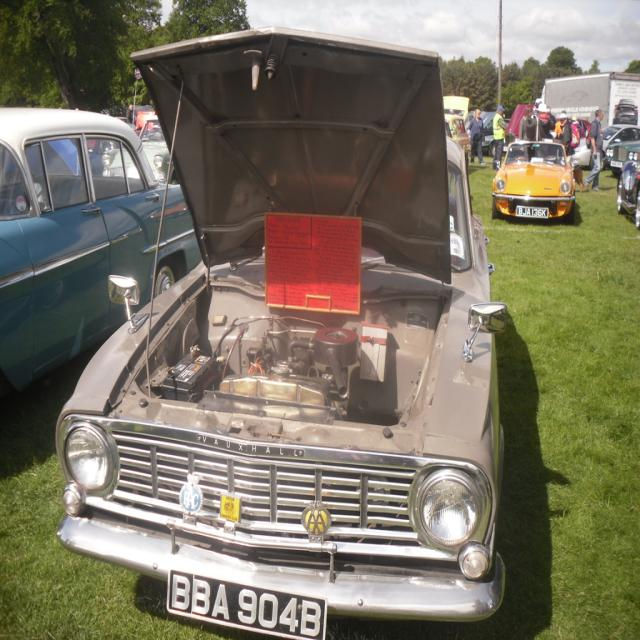car: (486, 135, 574, 228)
